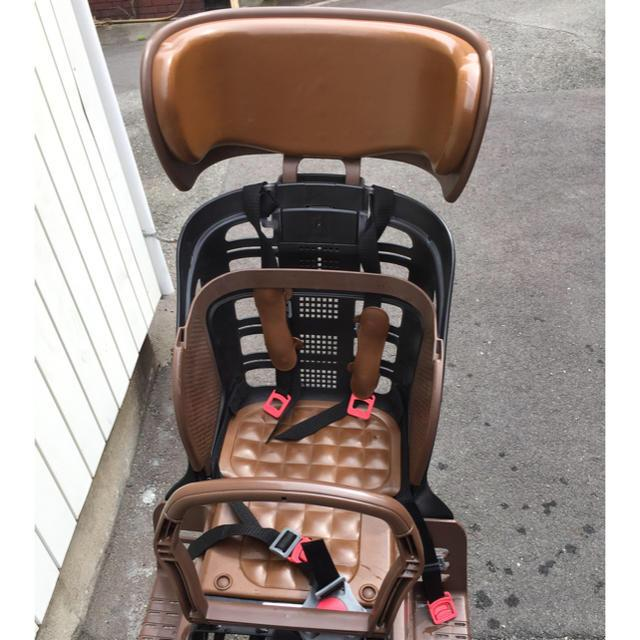childseat: (128, 1, 480, 640)
